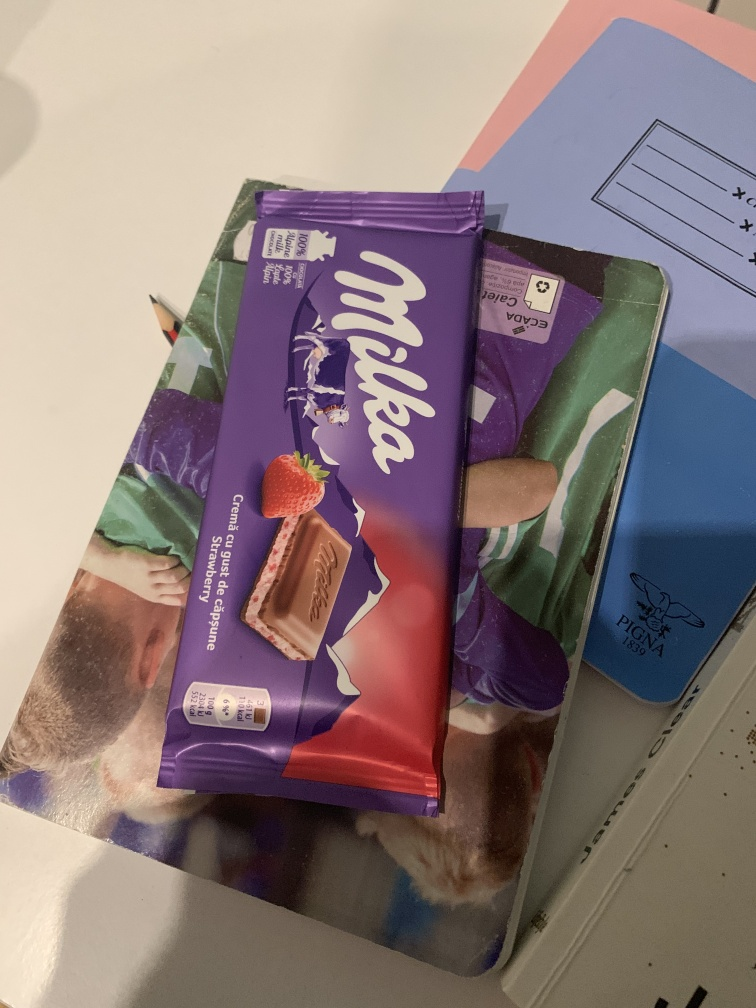milka: (147, 181, 496, 825)
